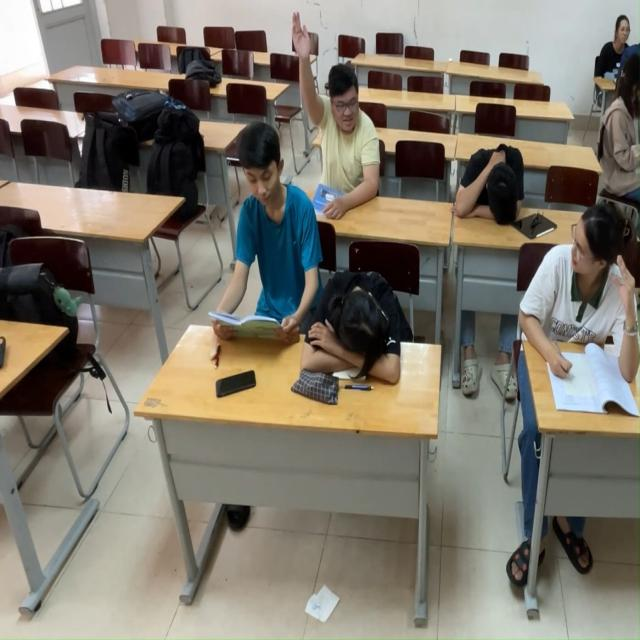raise_hand: (520, 195, 639, 412), (290, 3, 382, 226)
read: (217, 128, 307, 343)
